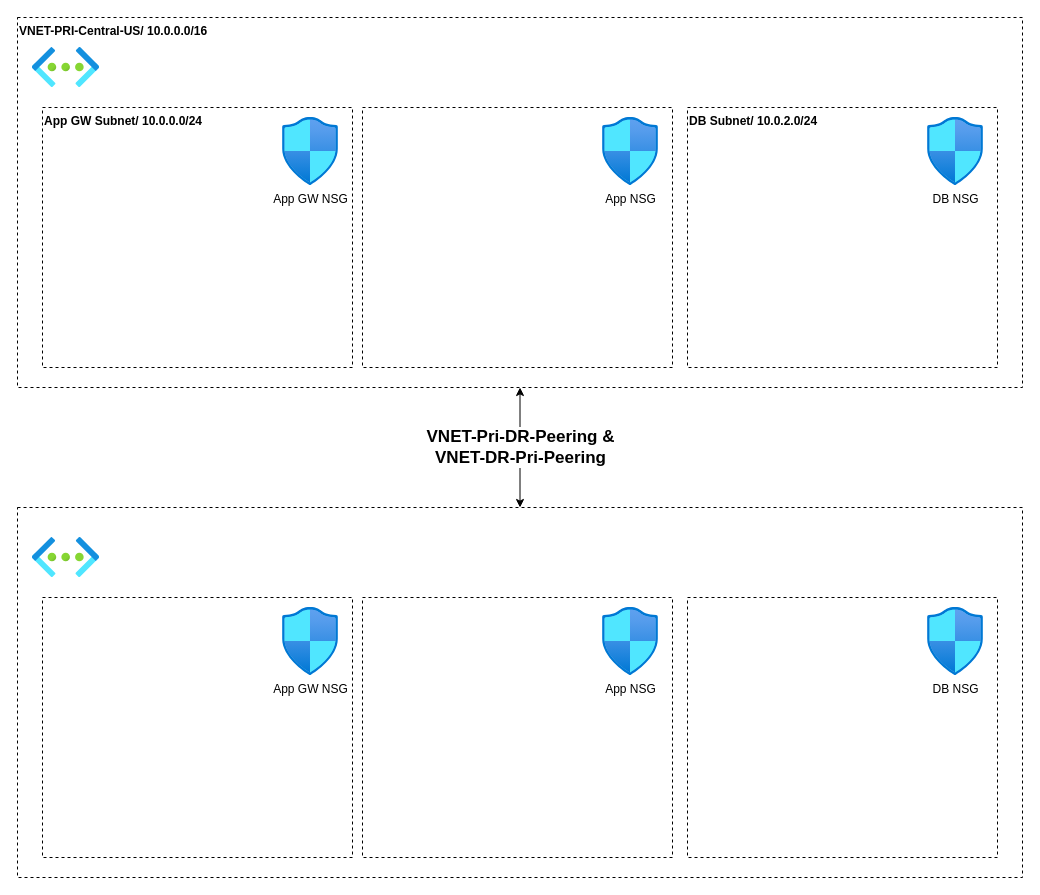
This 1040x895 diagram has some shape labels left out. The shapes that lost their labels are listed below. From the top down, each one's box as (x1, y1, x2, y2) in pixels, then its label:
(362, 106, 672, 368): App Subnet 10.0.1.0/24
(16, 506, 1022, 878): VNET-DR-East-US-2/ 172.0.0.0/16
(42, 596, 352, 858): App GW Subnet/ 172.0.0.0/24
(362, 596, 672, 858): App Subnet/ 172.0.1.0/24
(686, 596, 998, 858): DB Subnet/ 172.0.2.0/24
